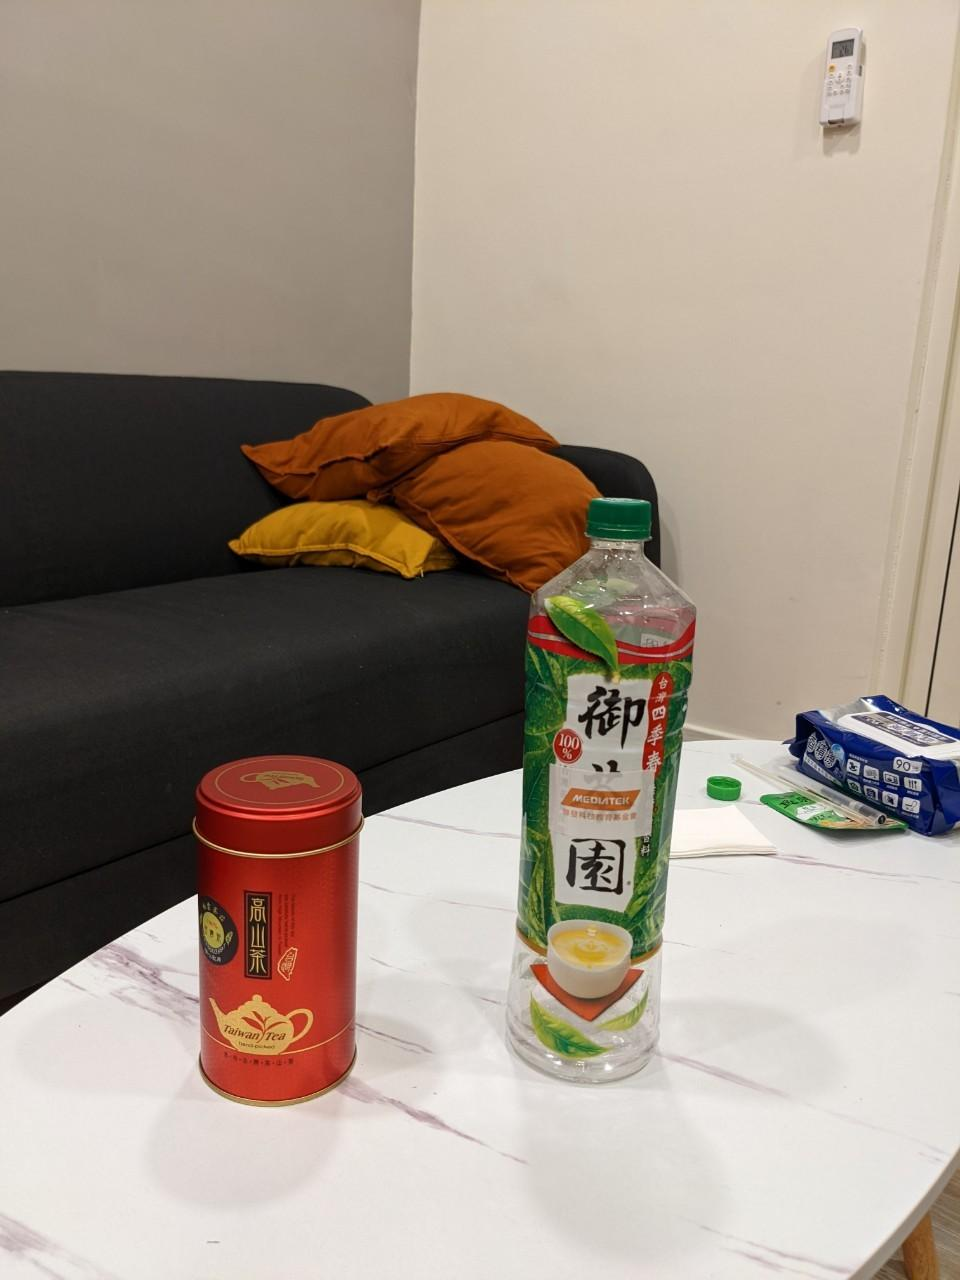BIODEGRADABLE: (502, 498, 691, 1085)
